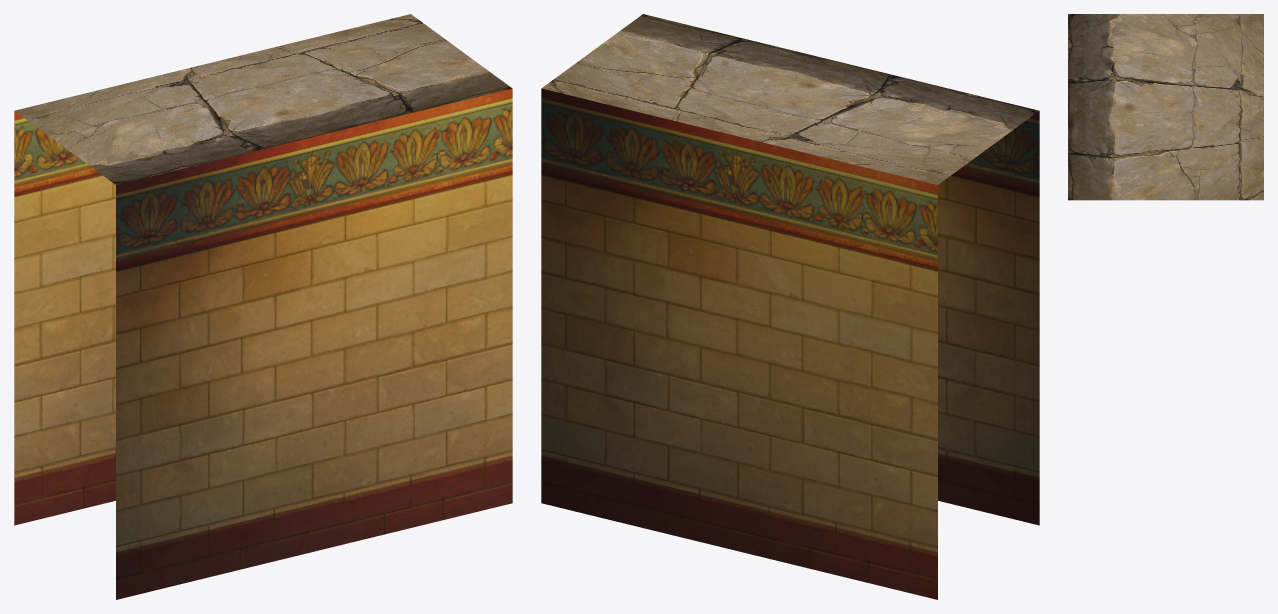
The model's file is EGY_WallSeg.fbx.
The picture shows the model from 3 angles, left to right: view 1: azimuth 30°, elevation 25°; view 2: azimuth 150°, elevation 25°; view 3: azimuth 270°, elevation 25°; orthographic projection. The views are drawn at different scales.
Parts seen in each view (by area): view 1: EGY_WallSeg; view 2: EGY_WallSeg; view 3: EGY_WallSeg.
Boxes of the visible parts, left/top/right/bottom form: EGY_WallSeg: left=14, top=14, right=512, bottom=599; EGY_WallSeg: left=541, top=14, right=1039, bottom=599; EGY_WallSeg: left=1068, top=14, right=1263, bottom=200.
Bounding box in the file's own units: 9 × 4 × 9.
Materials: 1 (1 with a texture image).
